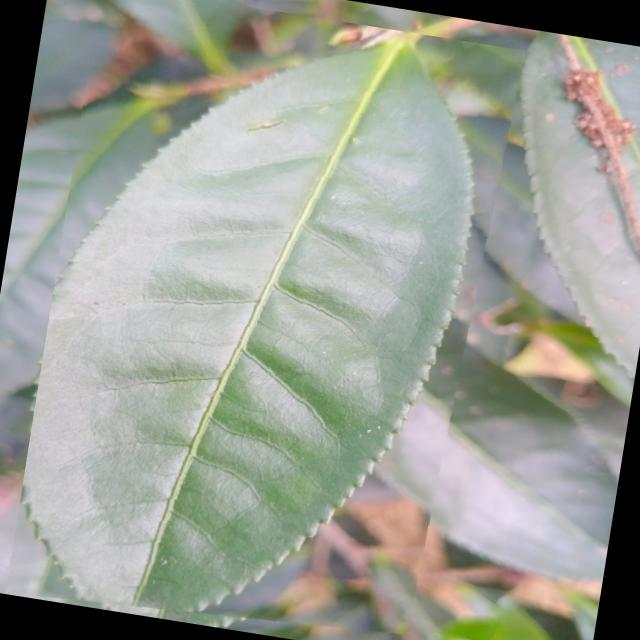Category D(7+ days, Not for Tea): (5, 0, 526, 640)
